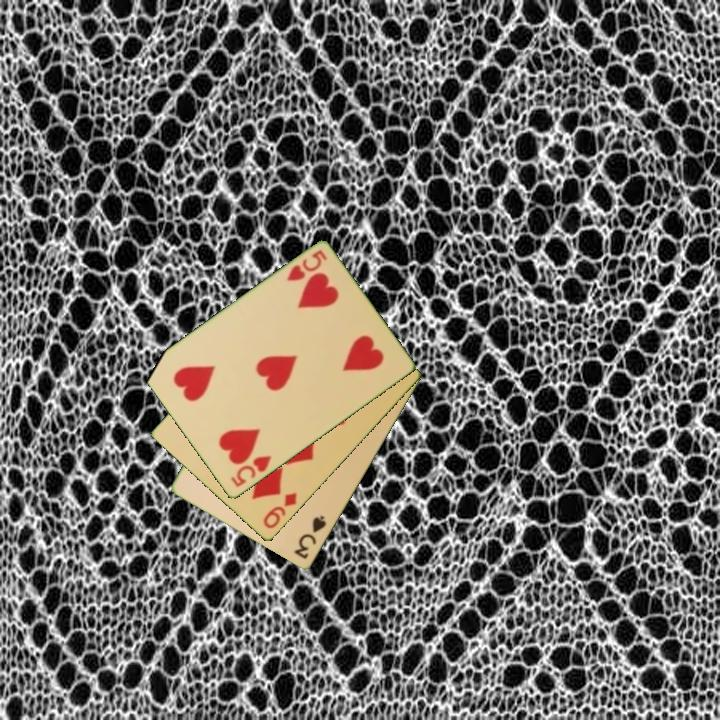3s: (290, 512, 329, 562)
5h: (227, 452, 274, 491), (283, 246, 330, 285)
9d: (260, 489, 300, 532)
